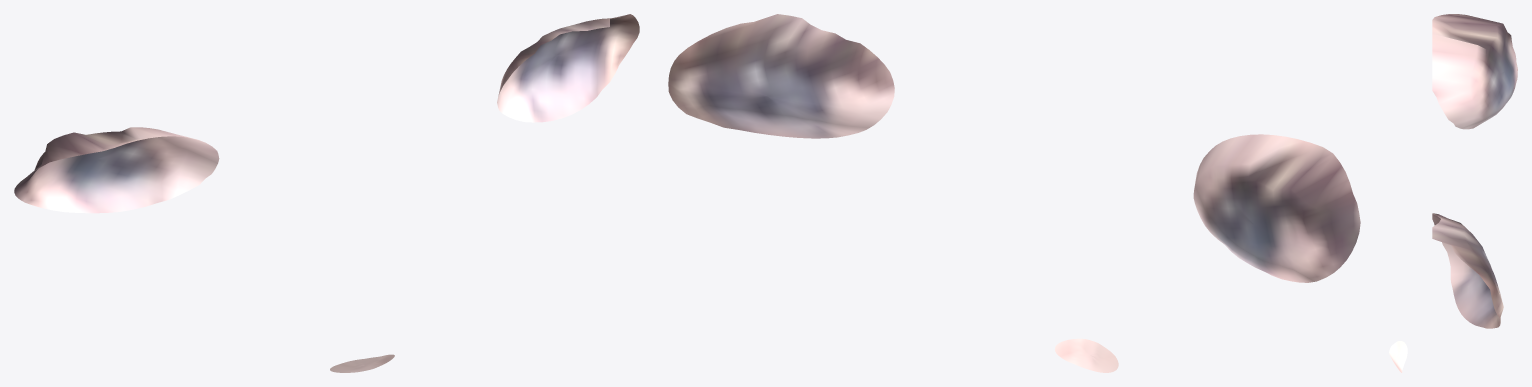
Rendered from yui-eye-detail.glb.
3 views of the same model, side by side, from view 1: azimuth 30°, elevation 25°; view 2: azimuth 150°, elevation 25°; view 3: azimuth 270°, elevation 25° (orthographic). The views are drawn at different scales.
Visible parts, largest first — view 1: Original reference iris R.001, Original reference iris L.001, Original reference iris Mouth.001; view 2: Original reference iris L.001, Original reference iris R.001, Original reference iris Mouth.001; view 3: Original reference iris R.001, Original reference iris L.001, Original reference iris Mouth.001.
Part boxes in pixels (box(x1,y1,x2,y2)): Original reference iris R.001: box(14, 127, 219, 213); Original reference iris L.001: box(497, 14, 639, 122); Original reference iris Mouth.001: box(330, 354, 394, 372); Original reference iris L.001: box(668, 14, 894, 138); Original reference iris R.001: box(1193, 134, 1360, 282); Original reference iris Mouth.001: box(1054, 338, 1118, 372); Original reference iris R.001: box(1432, 14, 1517, 129); Original reference iris L.001: box(1432, 213, 1503, 328); Original reference iris Mouth.001: box(1389, 341, 1407, 372).
Size of the model in its own units: 0.1225 by 0.0508 by 0.0242.
Materials: 1 (1 with a texture image).
